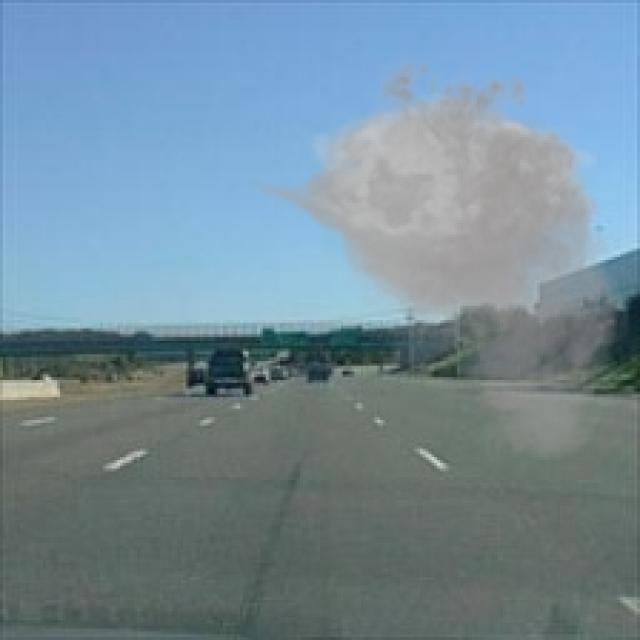smoke: (246, 46, 637, 468)
